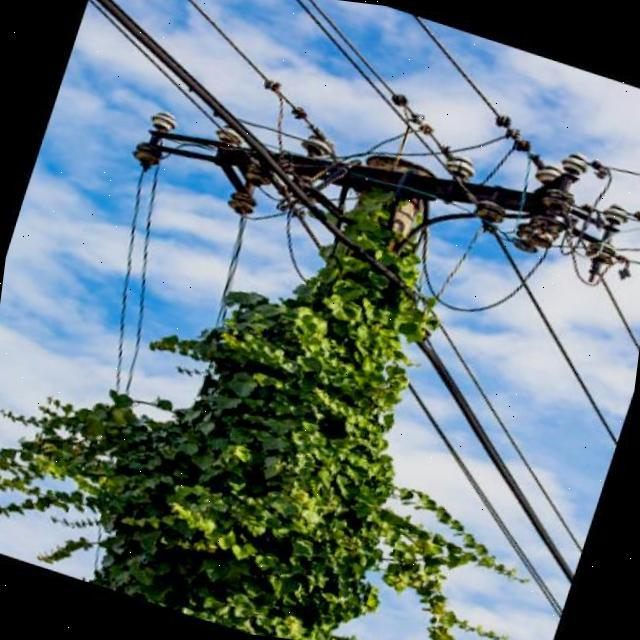critical vegetation: (6, 41, 621, 640)
